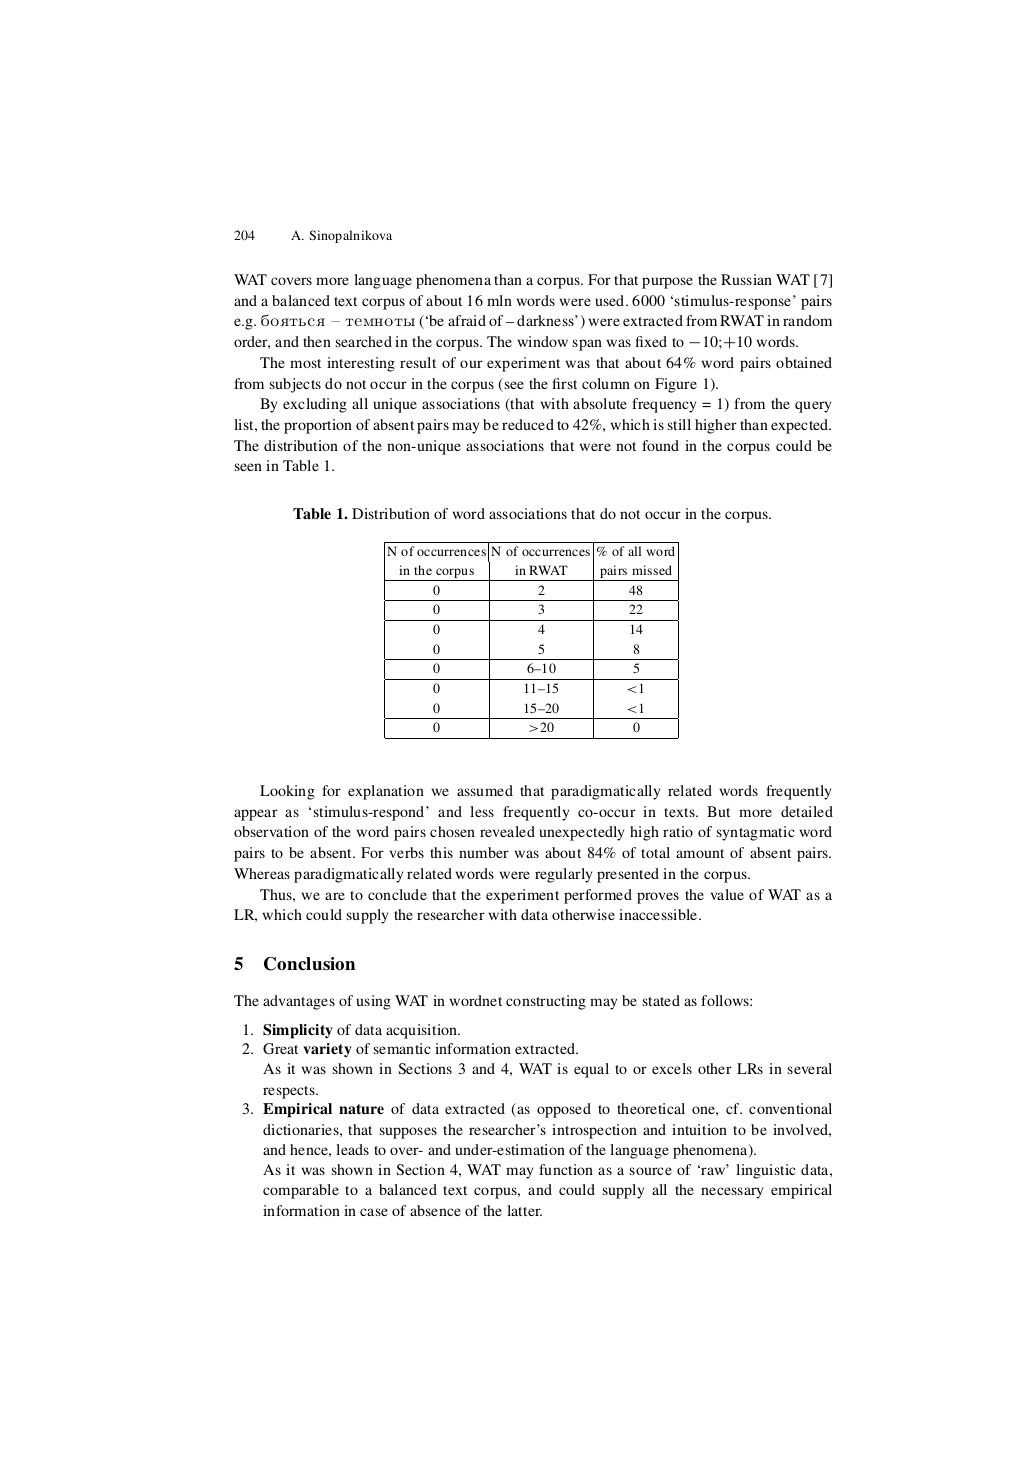Table: (384, 541, 678, 740)
